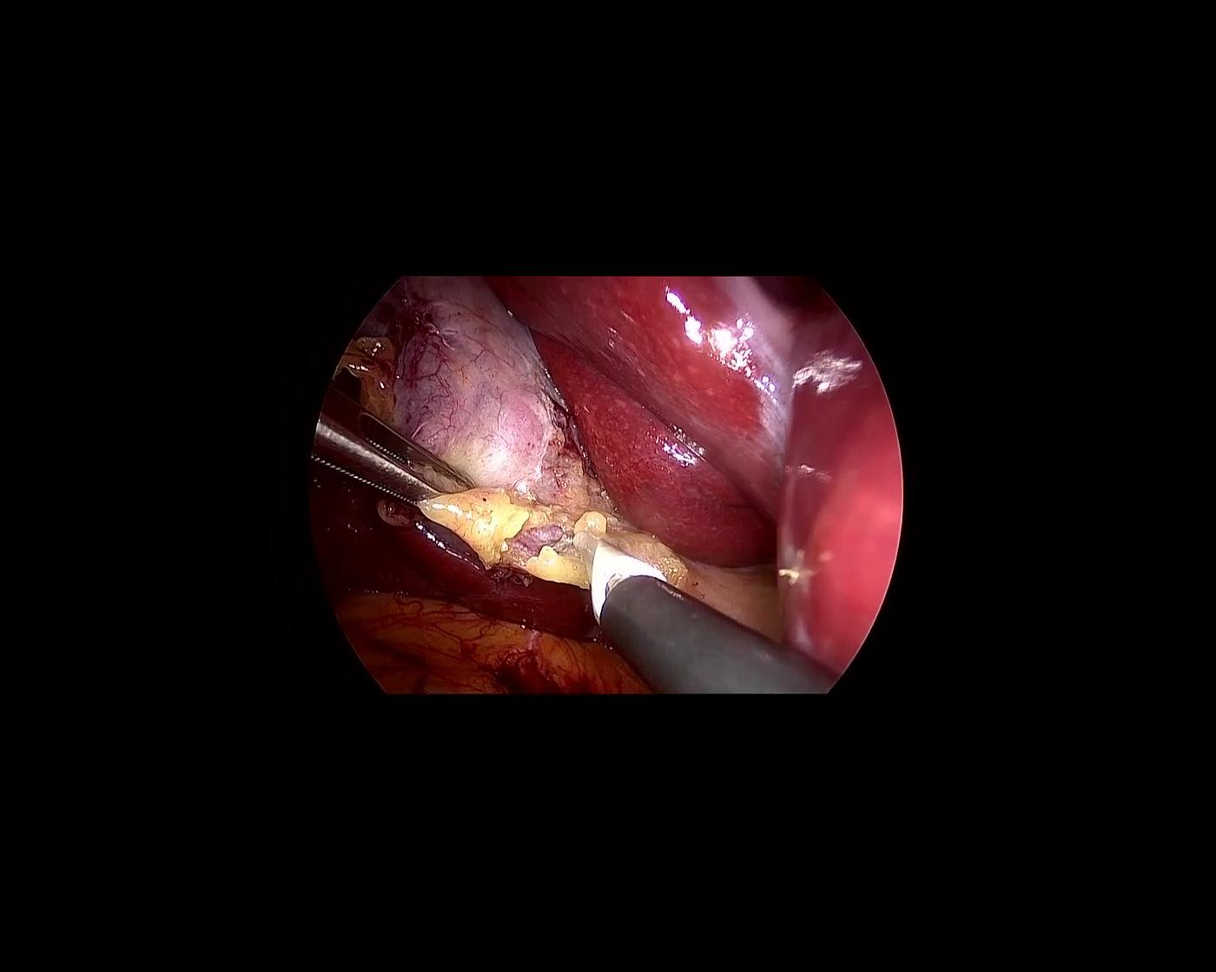Cautery: (526, 521, 838, 769)
Forceps: (287, 383, 484, 554)
Gallbladder: (319, 245, 612, 618)
Liver: (482, 133, 996, 734)
